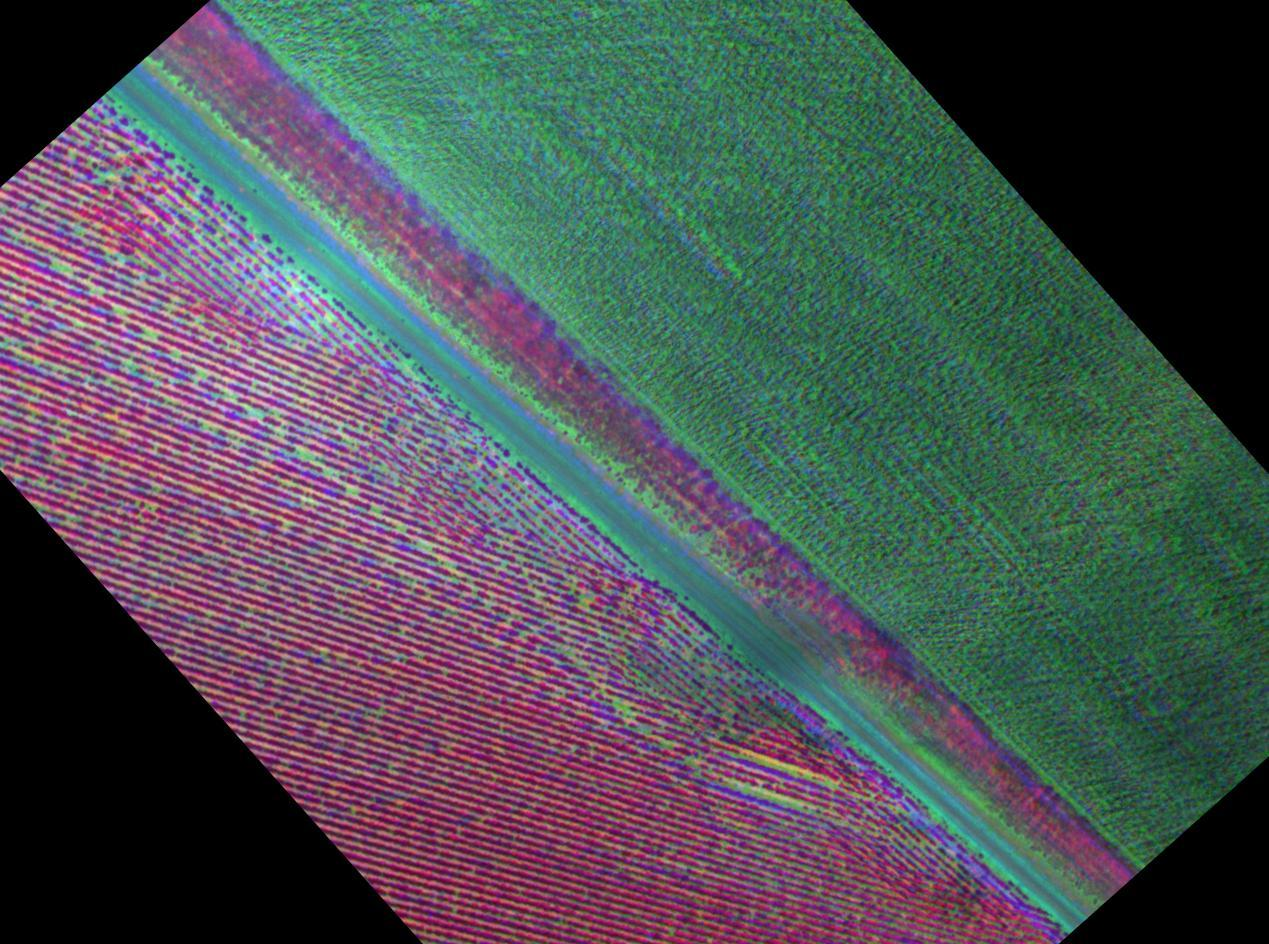dc: (55, 264, 61, 270), (327, 315, 332, 320), (283, 268, 287, 273), (117, 308, 121, 312), (301, 451, 305, 455), (349, 488, 353, 492), (200, 371, 203, 375)
